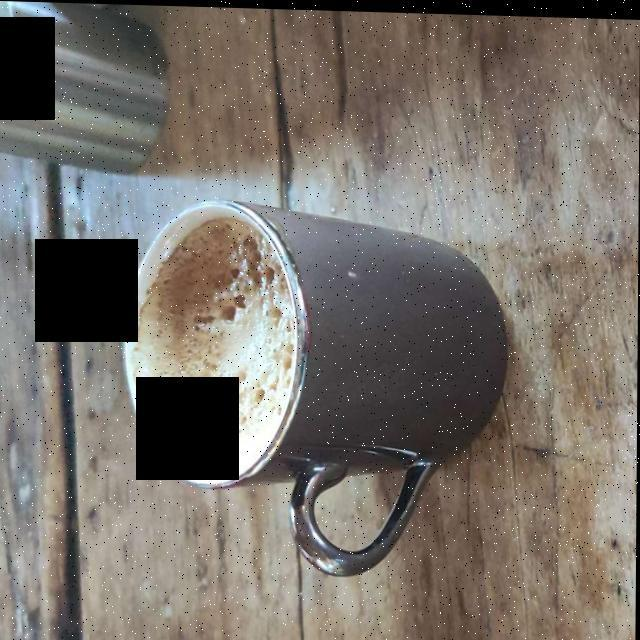cappuccino: (144, 226, 297, 475)
